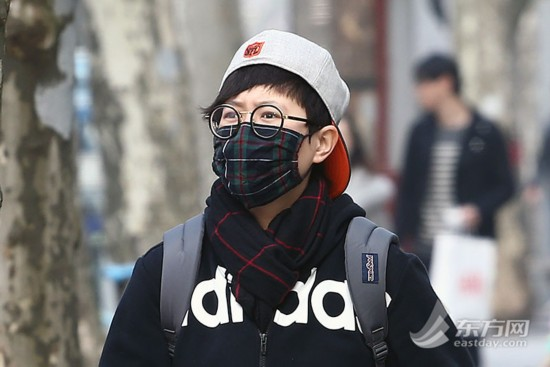face_mask: (212, 83, 309, 200)
